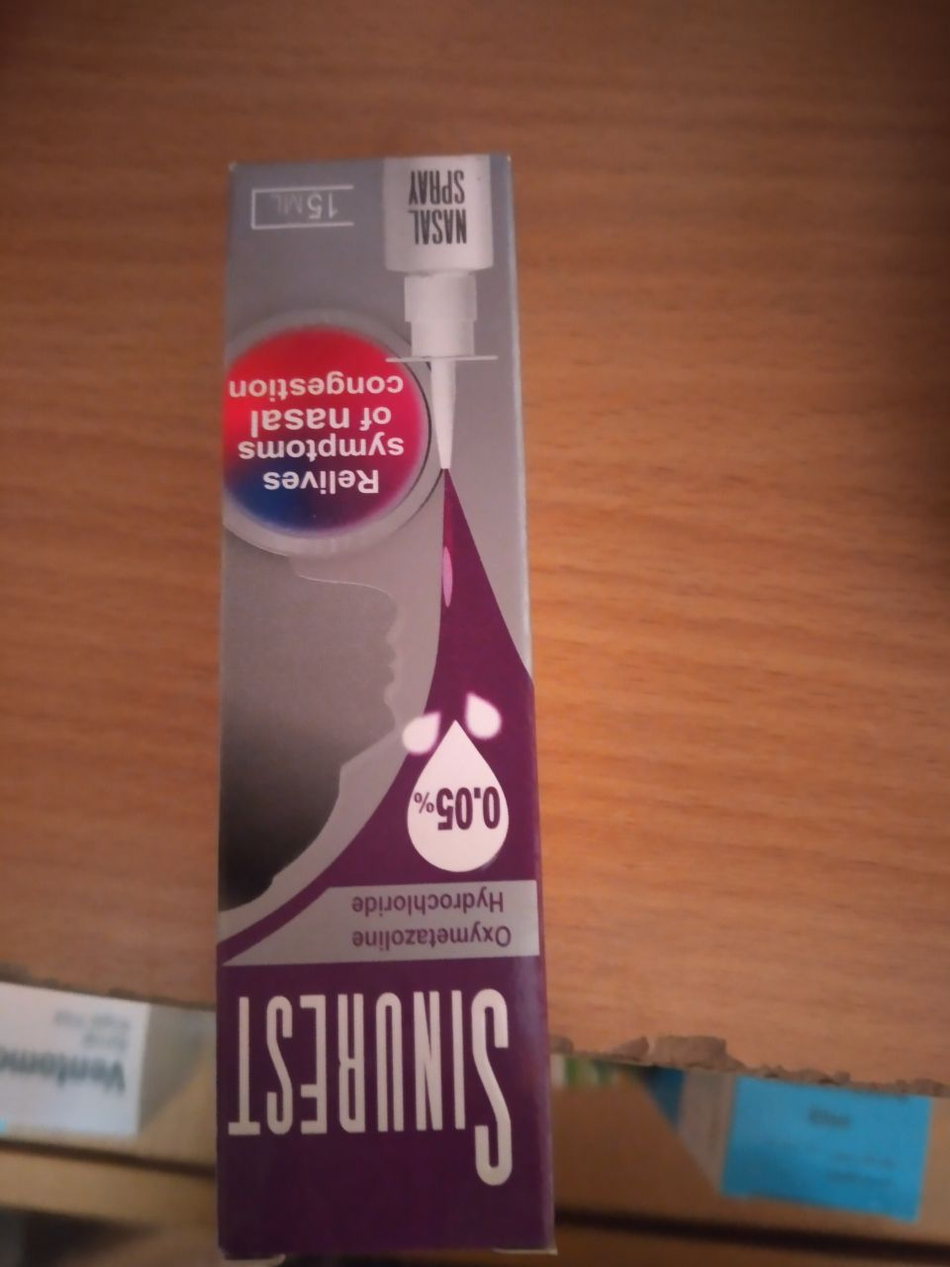Medicine: (198, 139, 561, 1267)
